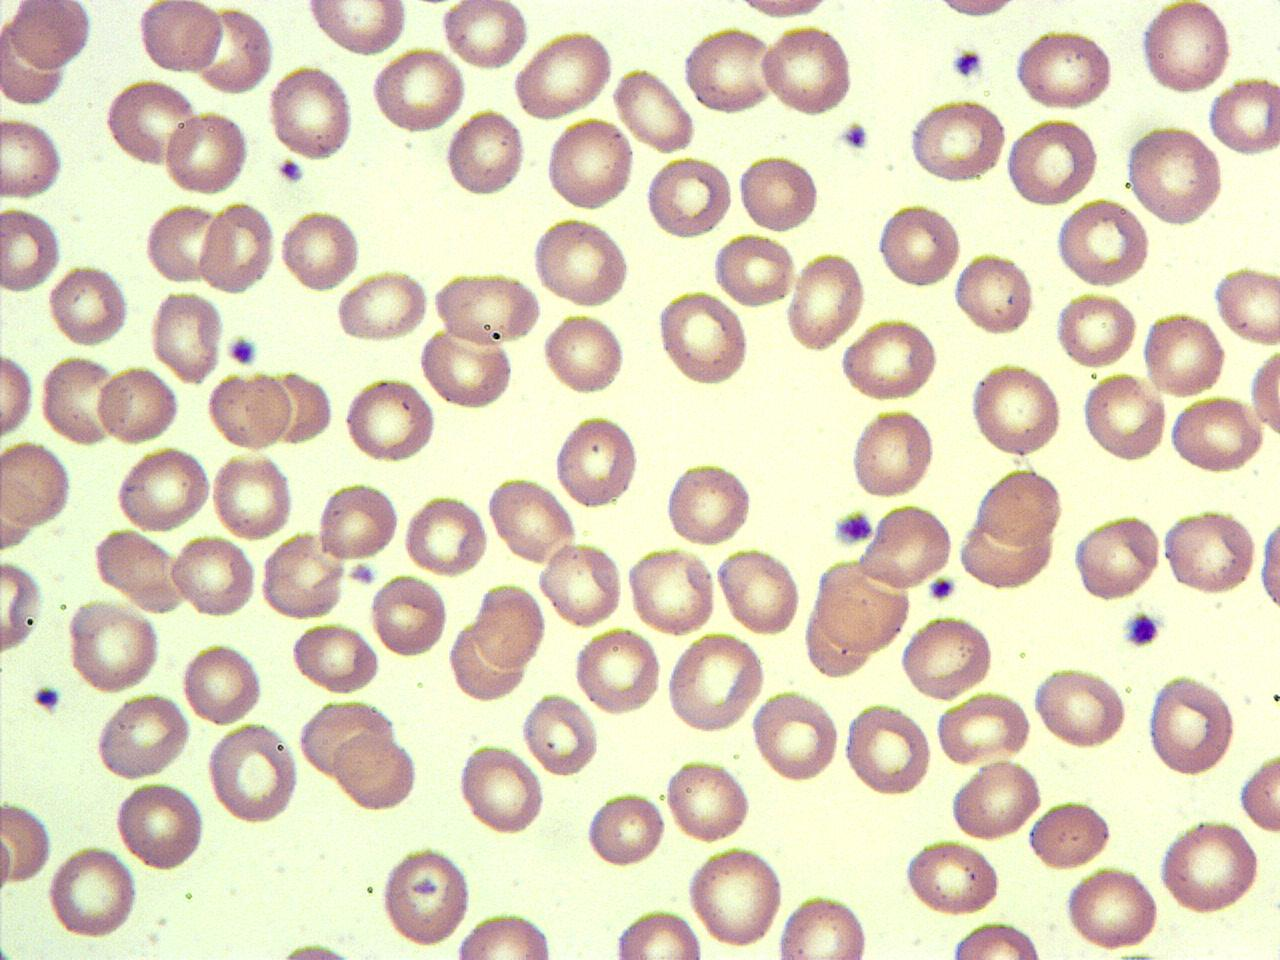Platelets: (1120, 608, 1164, 650), (833, 507, 876, 548), (225, 333, 262, 370), (949, 45, 987, 81), (839, 119, 871, 152), (31, 682, 65, 712), (927, 575, 959, 602), (274, 156, 305, 184), (346, 561, 376, 585)
RBC: (1122, 123, 1226, 228), (664, 630, 766, 735), (686, 844, 786, 950), (1155, 818, 1263, 916), (378, 842, 473, 950), (1145, 670, 1239, 778), (811, 556, 913, 652), (206, 722, 301, 825), (966, 360, 1065, 458), (528, 215, 632, 308), (654, 290, 752, 387), (510, 29, 615, 119), (63, 599, 162, 694), (46, 841, 139, 942), (1138, 1, 1234, 98), (1002, 116, 1101, 210), (757, 23, 855, 117), (1054, 197, 1152, 290), (680, 25, 780, 117), (340, 374, 438, 466), (907, 96, 1009, 185), (839, 316, 941, 403), (112, 779, 208, 873), (543, 116, 635, 214), (896, 612, 996, 702), (1061, 864, 1163, 952), (842, 701, 933, 798), (848, 404, 938, 502), (267, 64, 357, 162), (1010, 28, 1116, 112), (750, 688, 842, 784), (114, 444, 212, 533), (1161, 506, 1259, 596), (92, 693, 190, 782), (432, 269, 543, 348), (624, 545, 719, 636), (1080, 368, 1170, 465), (552, 412, 640, 511), (456, 741, 546, 836), (858, 504, 956, 591), (370, 46, 467, 134), (784, 250, 866, 354), (1030, 666, 1130, 750), (103, 78, 196, 168), (298, 698, 399, 781), (162, 106, 251, 200), (1166, 394, 1268, 476), (900, 836, 1004, 916), (1070, 513, 1164, 601), (91, 526, 187, 611), (663, 457, 753, 548), (573, 626, 662, 718), (417, 329, 516, 410), (485, 476, 577, 564), (876, 199, 962, 292), (662, 756, 752, 844), (644, 154, 734, 242), (716, 546, 802, 636), (948, 758, 1042, 842), (197, 199, 276, 296), (1142, 309, 1228, 399), (444, 105, 526, 200), (210, 452, 296, 541), (610, 66, 696, 153), (536, 541, 624, 627), (258, 532, 344, 621), (974, 466, 1066, 548), (402, 492, 490, 578), (196, 4, 276, 97), (179, 640, 265, 727), (541, 310, 626, 397), (148, 288, 225, 385), (39, 354, 118, 448), (334, 268, 432, 343), (279, 207, 363, 294), (330, 731, 420, 812), (96, 362, 181, 447), (952, 250, 1036, 337), (934, 692, 1032, 765), (172, 535, 257, 620), (47, 263, 131, 347), (736, 152, 820, 234), (207, 372, 293, 452), (369, 573, 449, 659), (472, 579, 547, 670), (0, 437, 74, 529), (288, 622, 380, 696), (143, 201, 222, 286), (136, 0, 225, 76), (316, 480, 400, 560), (712, 231, 796, 310), (775, 892, 874, 959), (523, 692, 598, 778), (1024, 798, 1113, 870), (584, 790, 664, 868), (1054, 291, 1138, 366), (439, 0, 529, 70), (1206, 75, 1280, 159), (302, 0, 410, 57), (8, 0, 94, 71), (1, 114, 68, 201), (1211, 262, 1279, 347), (0, 206, 63, 294), (453, 910, 560, 958), (1, 795, 54, 890), (610, 906, 703, 960), (0, 558, 44, 656), (944, 920, 1048, 960), (1236, 750, 1280, 835), (0, 348, 36, 440), (1247, 344, 1279, 440), (1255, 504, 1279, 624), (728, 0, 840, 23), (922, 0, 1029, 23), (262, 938, 368, 960)
